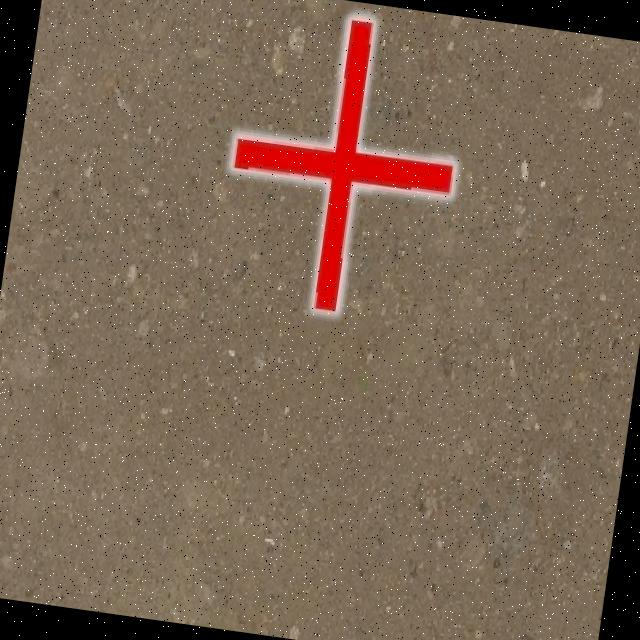x_marker: (213, 2, 472, 324)
